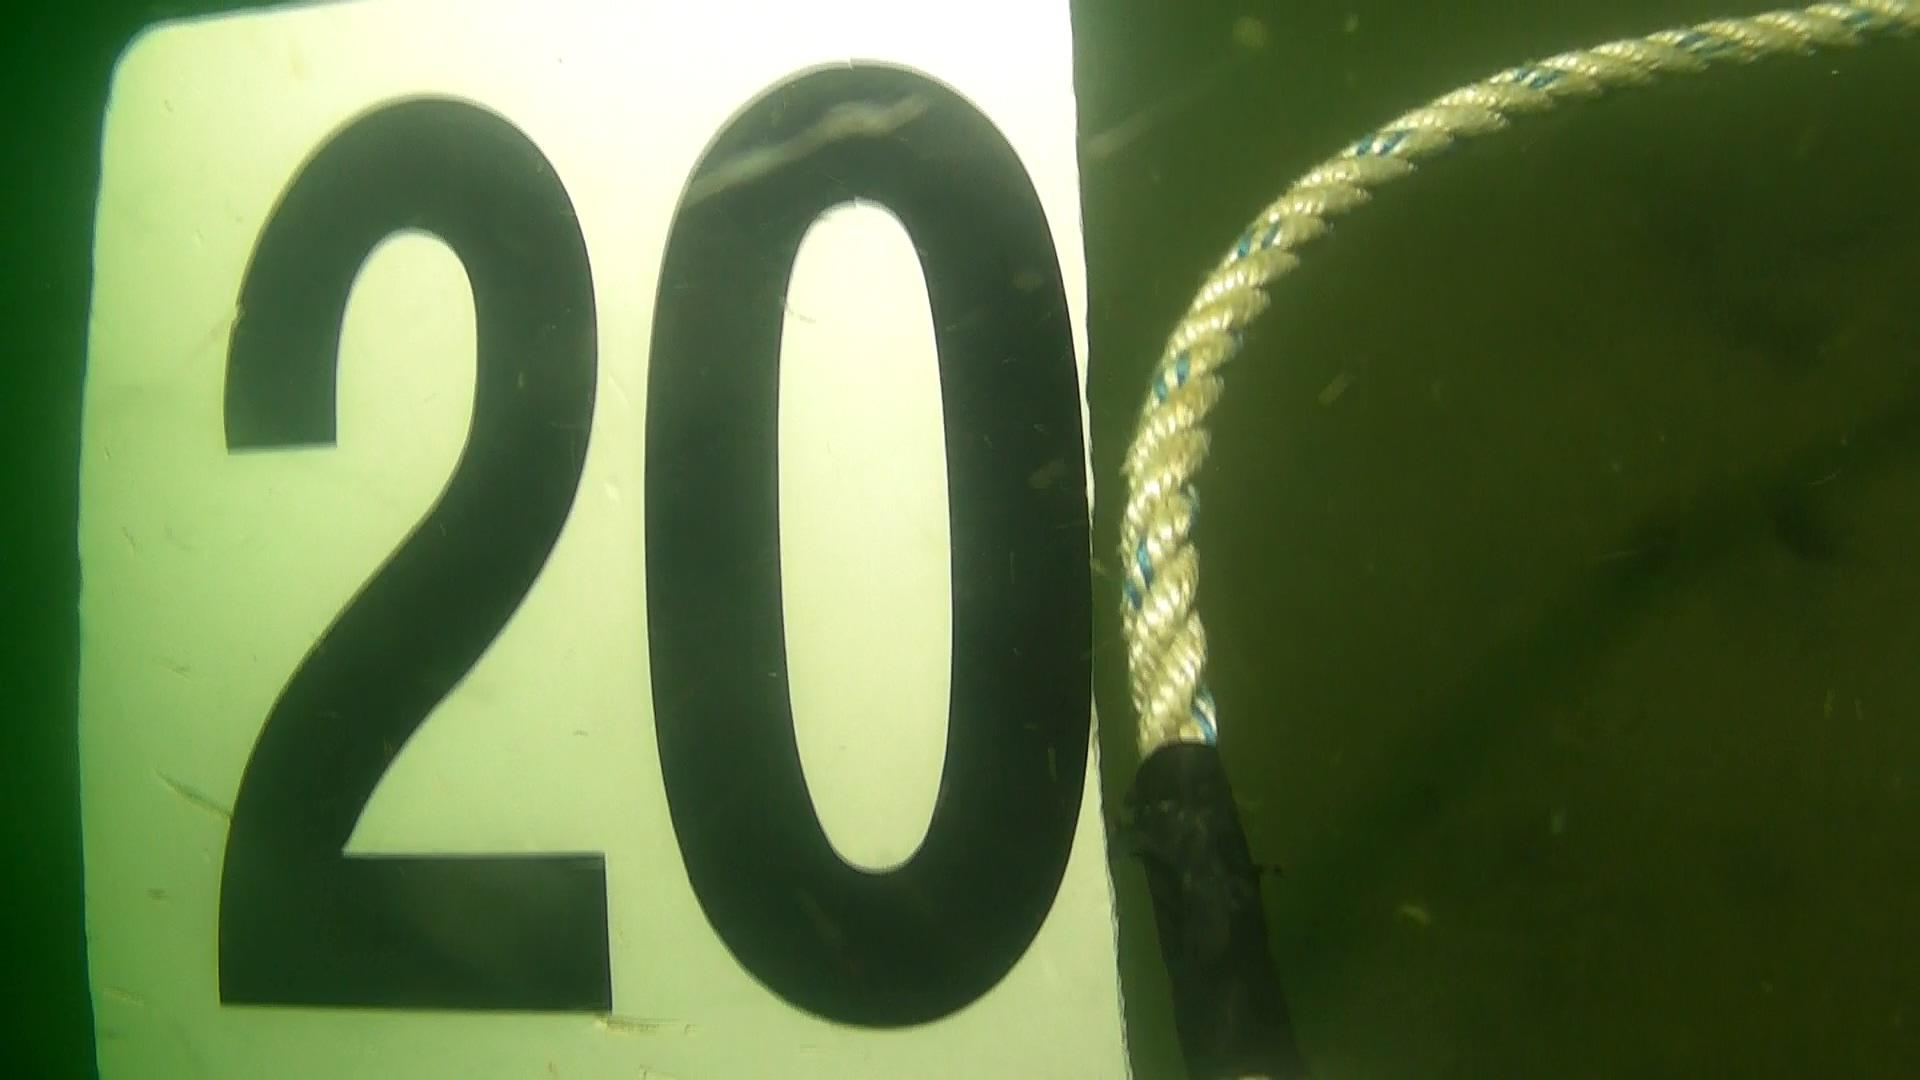rope: (1117, 1, 1920, 764)
